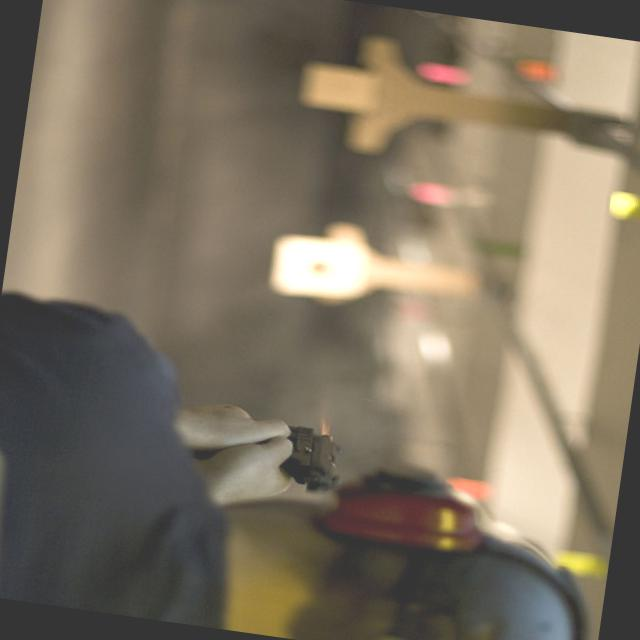handgun: (183, 409, 346, 494)
